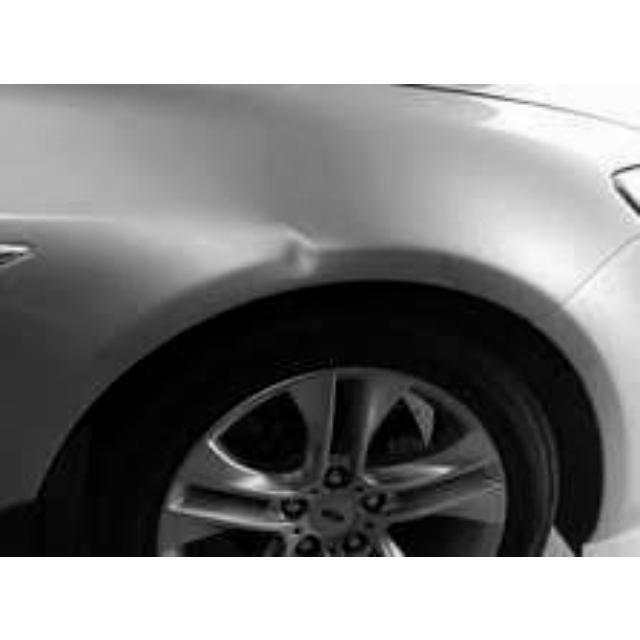fender-dent: (9, 84, 539, 439)
